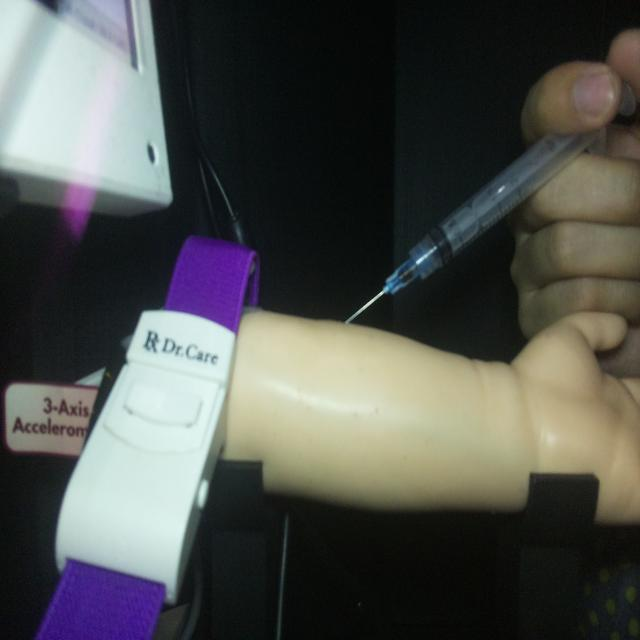29 degrees: (344, 69, 638, 322)
